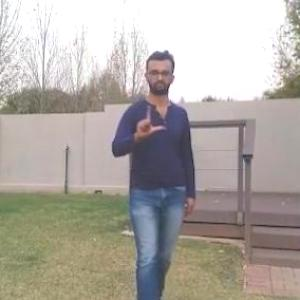land_hand: (132, 100, 165, 138)
